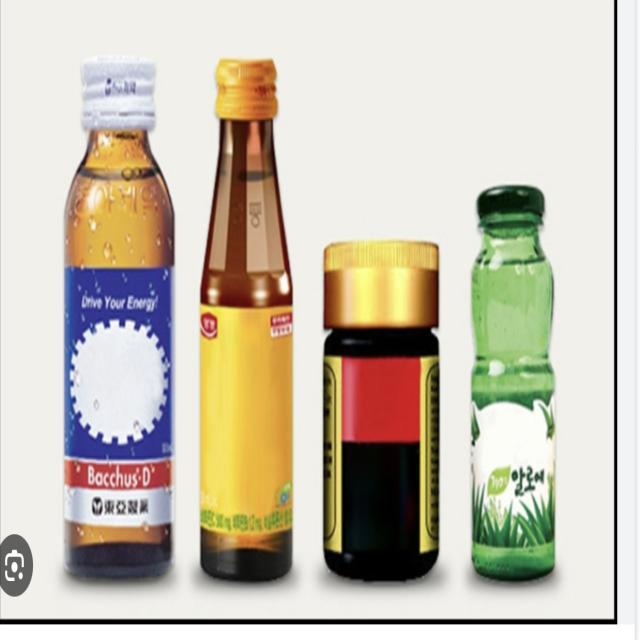recyclable: (45, 119, 185, 606), (192, 118, 304, 593), (465, 220, 560, 588), (317, 330, 450, 578)
